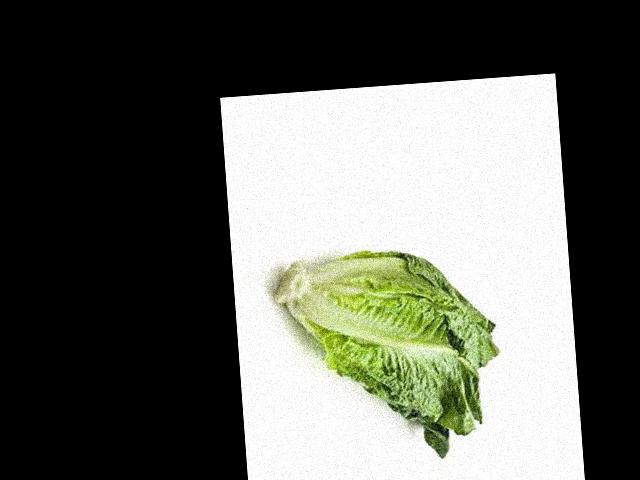lettuce: (305, 156, 487, 233)
